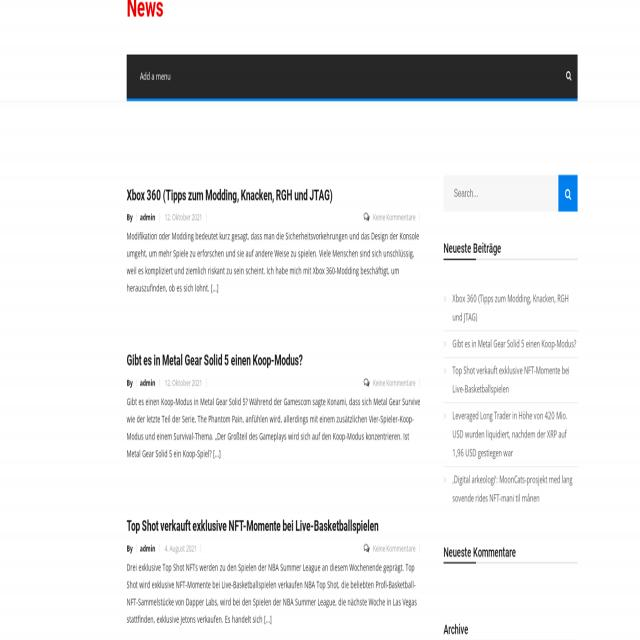button: (135, 54, 175, 99), (559, 175, 577, 212), (560, 62, 576, 92)
field: (444, 176, 558, 211)
